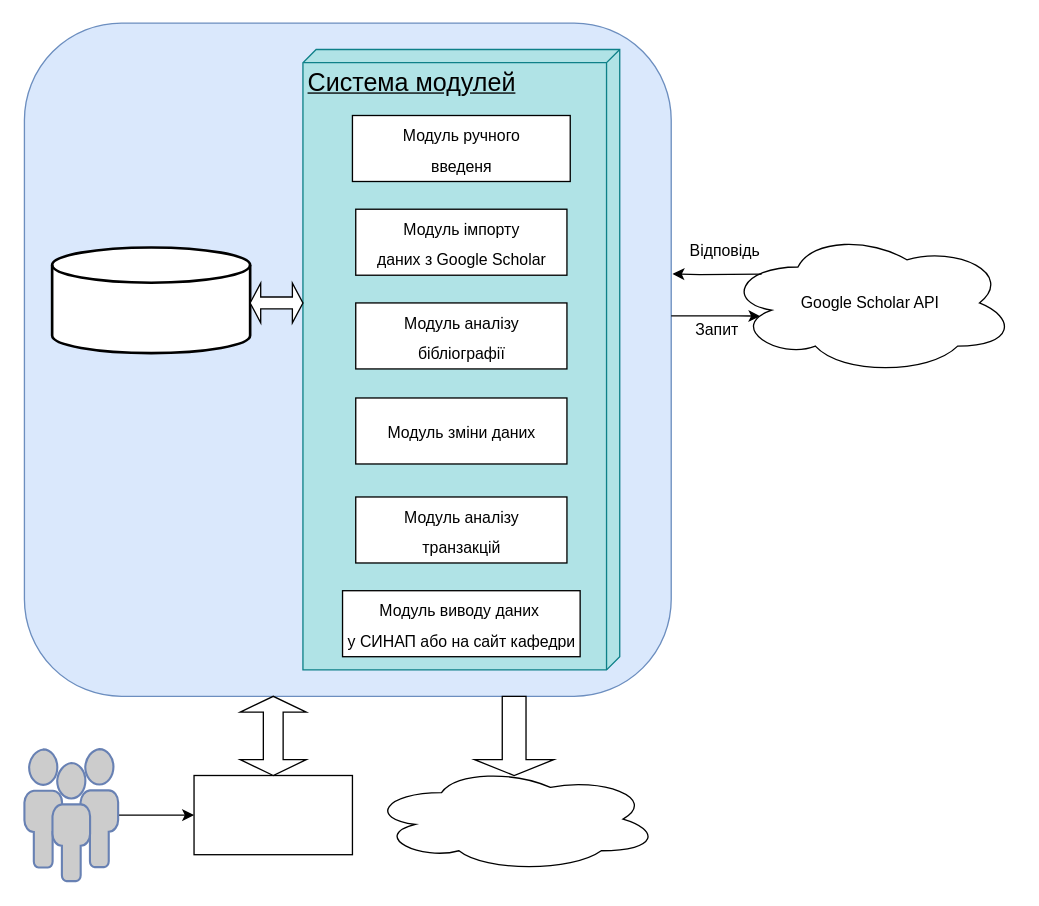
The diagram is 1039 pixels wide and 906 high, and some of its shapes have lost their labels. The centre of each missing label's shape, as x and y in pixels:
"PHP/JS додаток" belongs at (272,814).
"БД" belongs at (150,300).
"Сайт кафедри https://znuiepf.com.ua/" belongs at (513,818).
